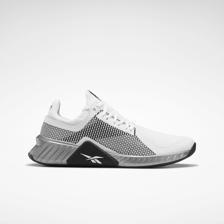Hand: (105, 14, 209, 220), (15, 4, 109, 219)
